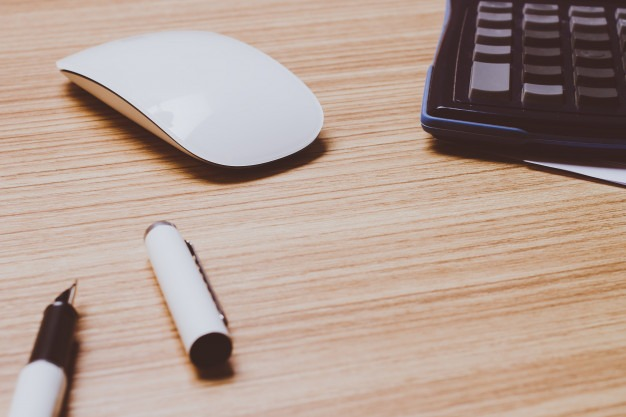mouse: (45, 14, 332, 189)
